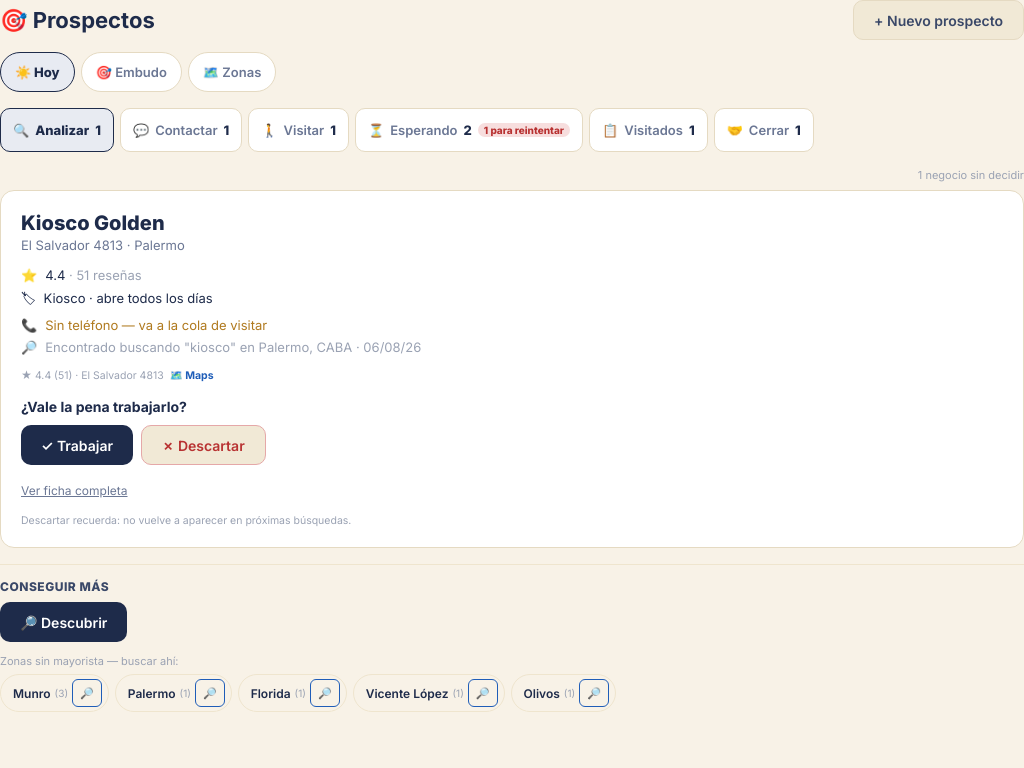
Test: Prospectos — Ficha: el expediente permanente › muestra la etapa OPERATIVA (la misma que decide la cola), no la del engine
Click the button "📋 Visitados 1" at (648,130), box x1=589 y1=108 x2=708 y2=152
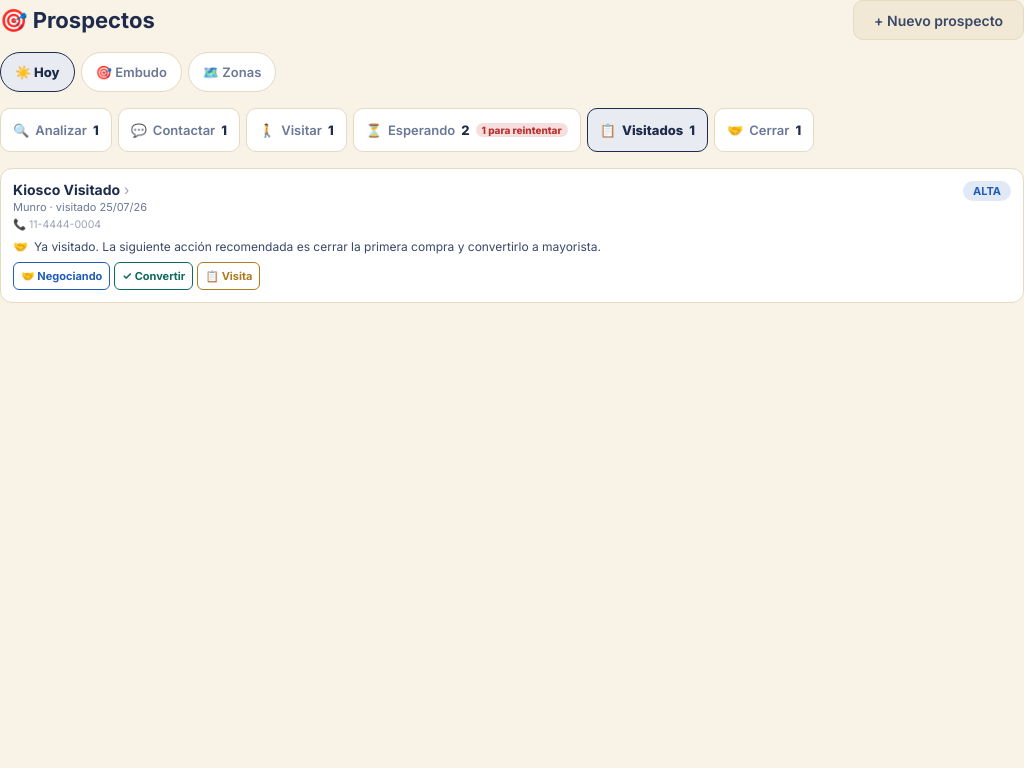
Click the text "Kiosco Visitado ›" at (71,190), box x1=13 y1=181 x2=130 y2=198
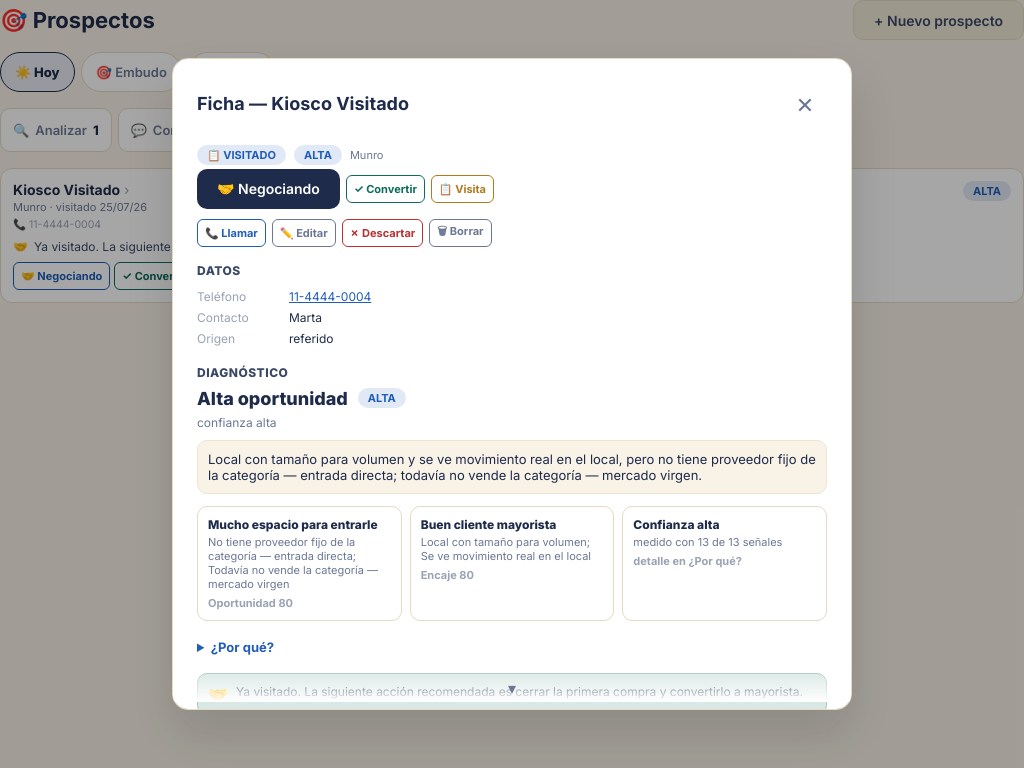
Check: the text "📋 Visitado" is shown, box x1=197 y1=145 x2=286 y2=165
